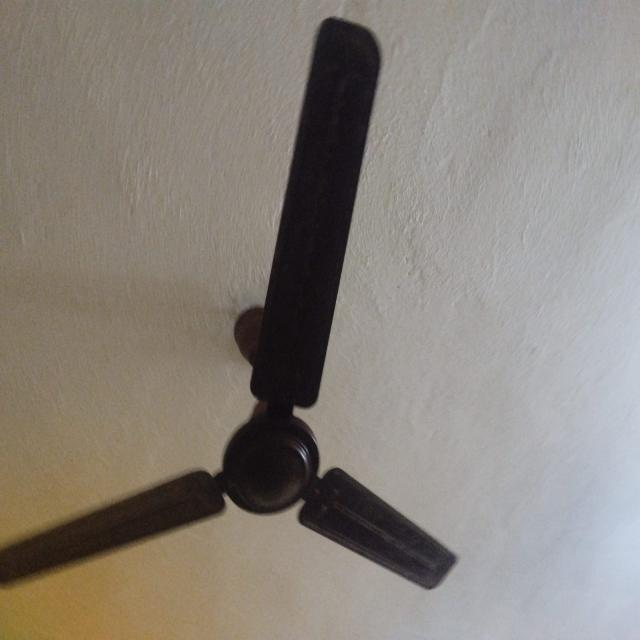fan_off: (2, 21, 460, 597)
